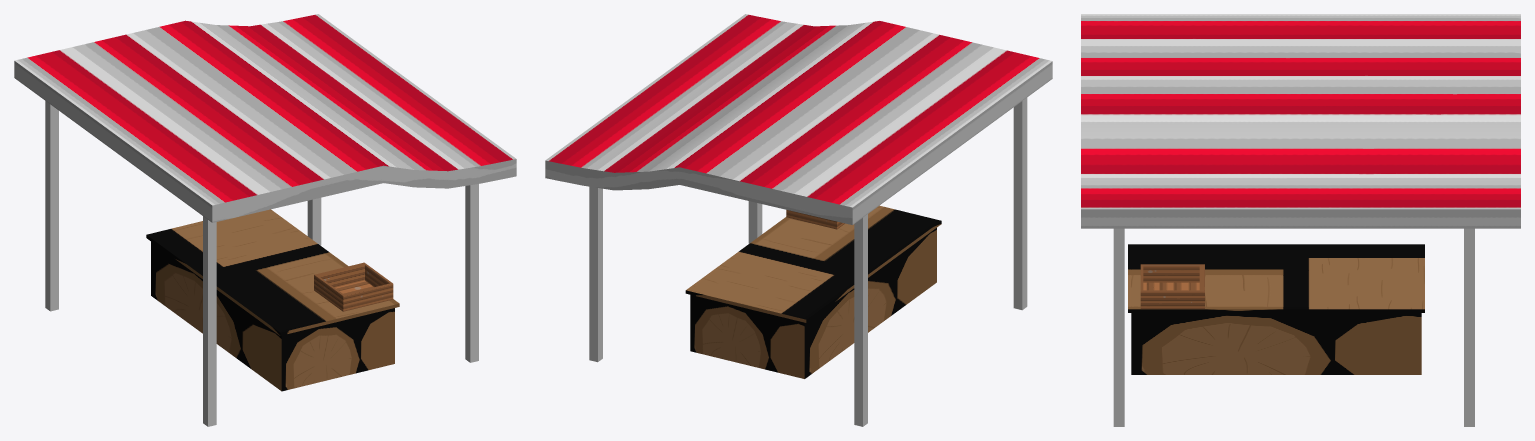
Rendered from MarketBottomAndTop.fbx.
3 views of the same model, side by side, from view 1: azimuth 30°, elevation 25°; view 2: azimuth 150°, elevation 25°; view 3: azimuth 270°, elevation 25° (orthographic). The views are drawn at different scales.
Parts seen in each view (by area): view 1: pPlane2, pCube5, pCube1, pCube2, pCube12, pCube4, pCube3; view 2: pPlane2, pCube5, pCube1, pCube2, pCube3, pCube4; view 3: pPlane2, pCube5, pCube12, pCube4, pCube3.
Part boxes in pixels (bbox=[...]): pPlane2: bbox=[14, 14, 516, 222]; pCube5: bbox=[146, 209, 399, 391]; pCube1: bbox=[203, 216, 216, 426]; pCube2: bbox=[45, 101, 58, 311]; pCube12: bbox=[314, 262, 393, 311]; pCube4: bbox=[465, 184, 478, 362]; pCube3: bbox=[307, 197, 321, 245]; pPlane2: bbox=[545, 14, 1052, 224]; pCube5: bbox=[685, 205, 941, 378]; pCube1: bbox=[1013, 97, 1027, 310]; pCube2: bbox=[854, 214, 867, 426]; pCube3: bbox=[589, 186, 602, 362]; pCube4: bbox=[748, 201, 762, 243]; pPlane2: bbox=[1081, 14, 1520, 228]; pCube5: bbox=[1128, 244, 1424, 374]; pCube12: bbox=[1140, 264, 1204, 308]; pCube4: bbox=[1113, 228, 1124, 426]; pCube3: bbox=[1464, 228, 1474, 426].
Size of the model in its own units: 19.58 by 14.44 by 22.08.
